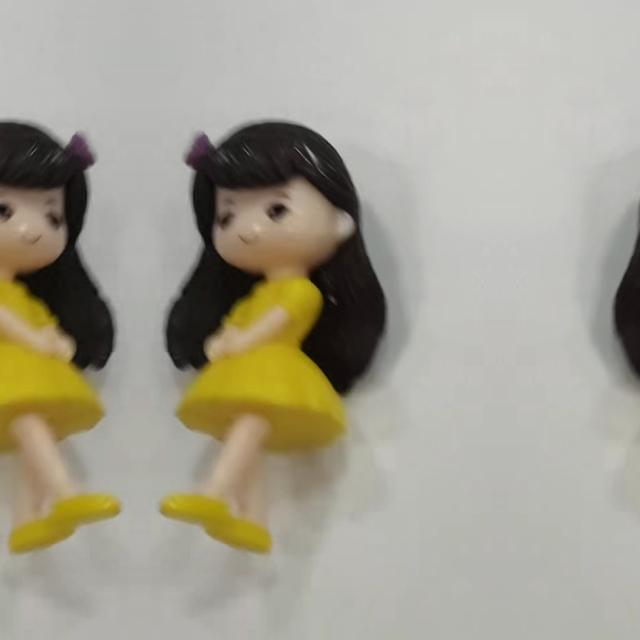woman dress: (163, 268, 361, 566), (0, 268, 117, 565), (639, 268, 640, 565)
woman head: (152, 100, 392, 288), (0, 99, 128, 288), (607, 99, 640, 288)
